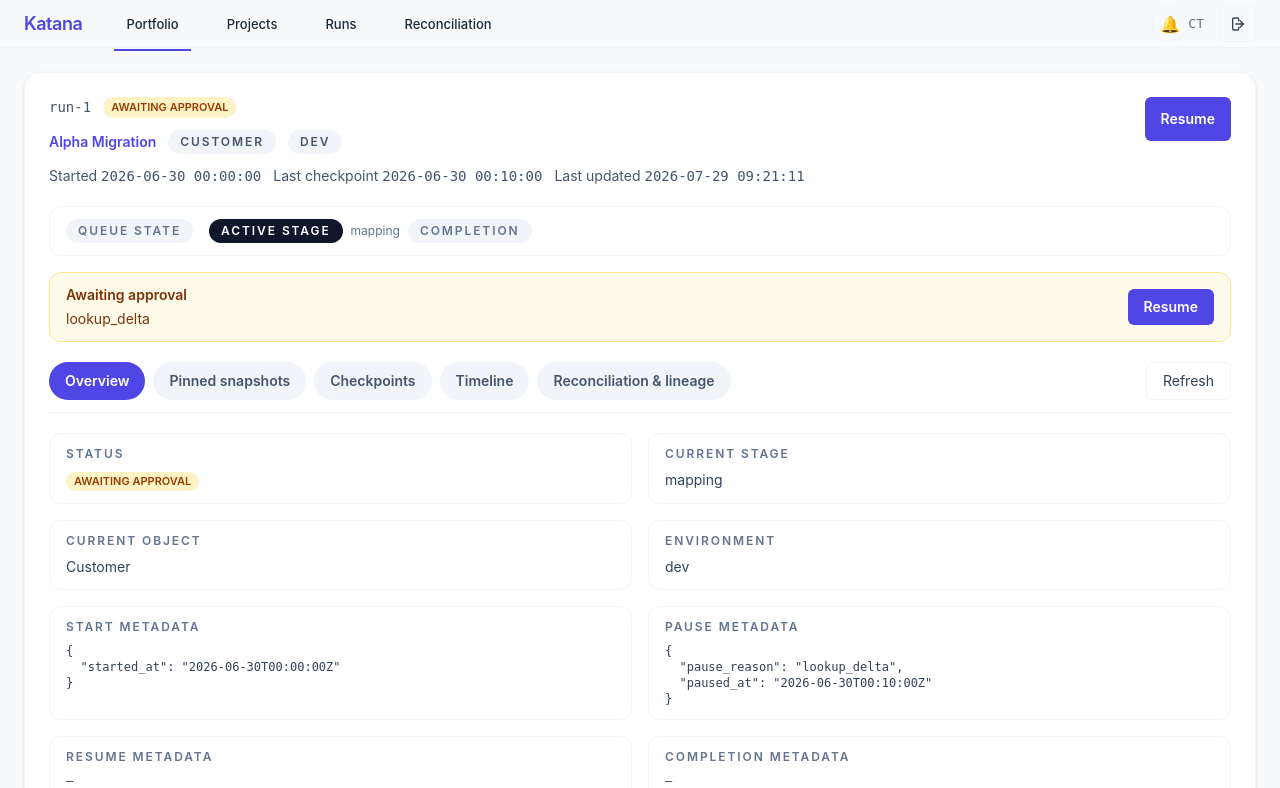
RunDetailPage › shows pinned snapshots and checkpoints
The image size is (1280, 788).
Expected: the link "Alpha Migration" is shown, [49, 132, 156, 152]
Click the button "Pinned snapshots": (230, 380) [154, 362, 306, 400]
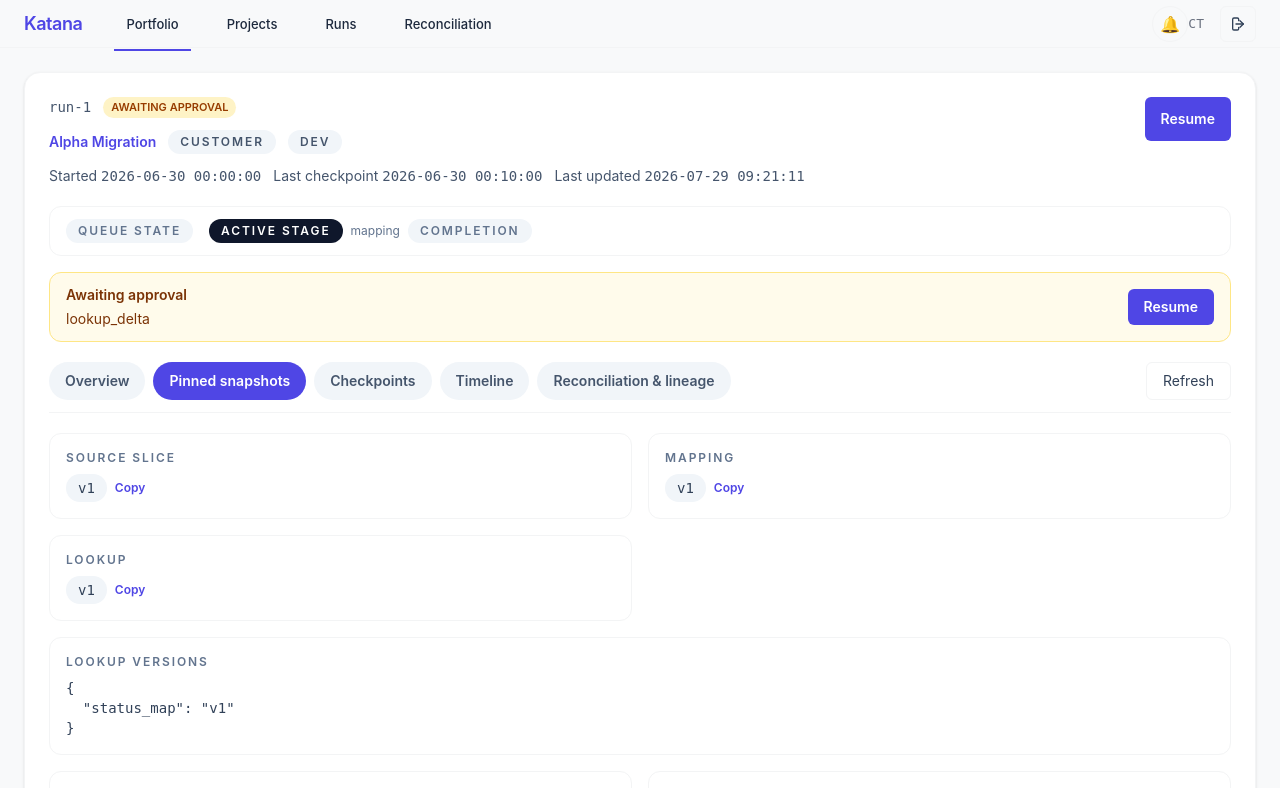
Click the button "Checkpoints": (373, 380) [314, 362, 432, 400]
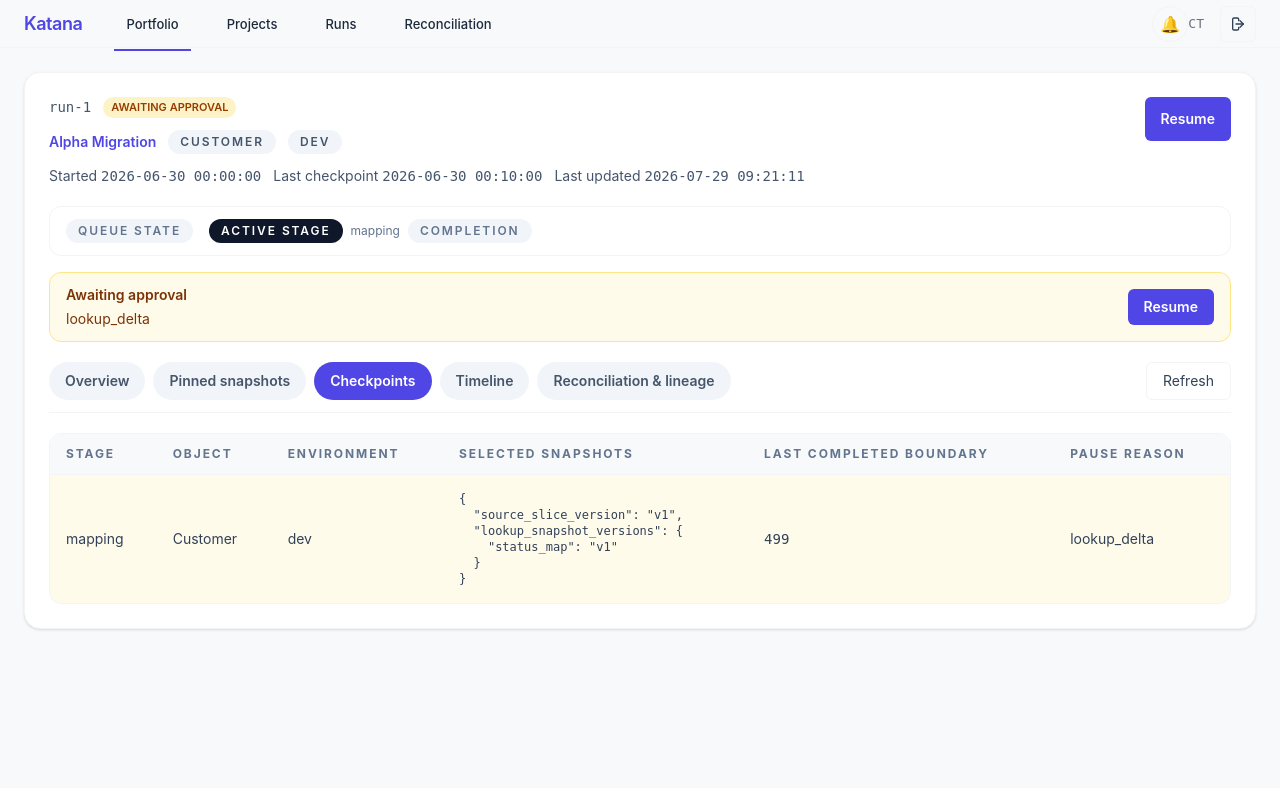
Expected: the text "499" is shown, [748, 474, 1054, 602]
